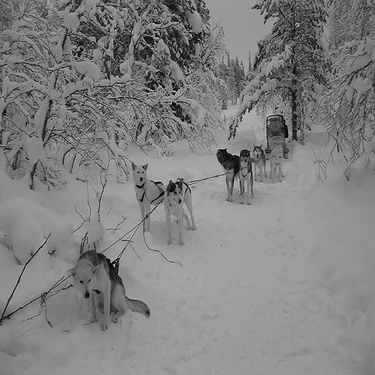dog: (58, 231, 162, 347), (118, 160, 168, 240), (158, 171, 200, 248), (204, 147, 245, 202), (231, 143, 273, 186), (226, 152, 257, 210), (254, 148, 292, 189)
